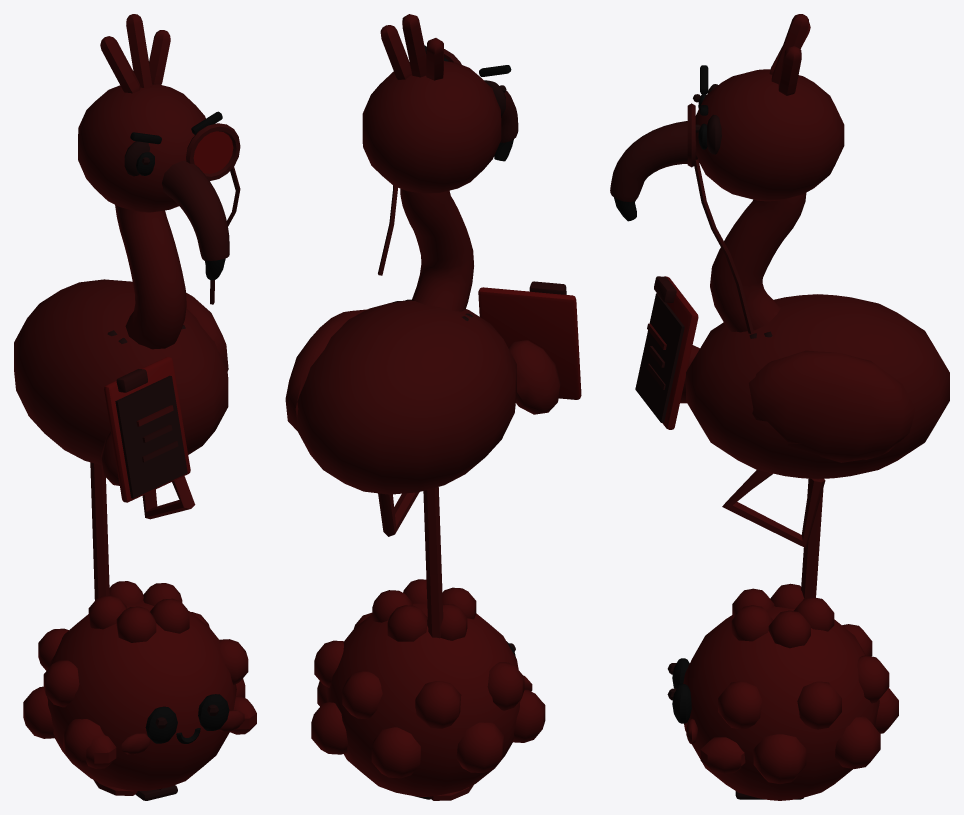
Rendered from CHAR.glb.
The picture shows the model from 3 angles, left to right: view 1: azimuth 30°, elevation 25°; view 2: azimuth 150°, elevation 25°; view 3: azimuth 270°, elevation 25°; orthographic projection. The views are drawn at different scales.
Parts seen in each view (by area): view 1: char__prudence, char__lint_body; view 2: char__prudence, char__lint_body; view 3: char__prudence, char__lint_body.
Boxes of the visible parts, x1=… form: char__prudence: x1=14, y1=14, x2=240, y2=795; char__lint_body: x1=23, y1=581, x2=256, y2=790; char__prudence: x1=285, y1=14, x2=581, y2=800; char__lint_body: x1=311, y1=579, x2=545, y2=796; char__prudence: x1=610, y1=14, x2=949, y2=598; char__lint_body: x1=667, y1=583, x2=898, y2=800.
Size of the model in its own units: 0.8403 by 3.11 by 1.22.
